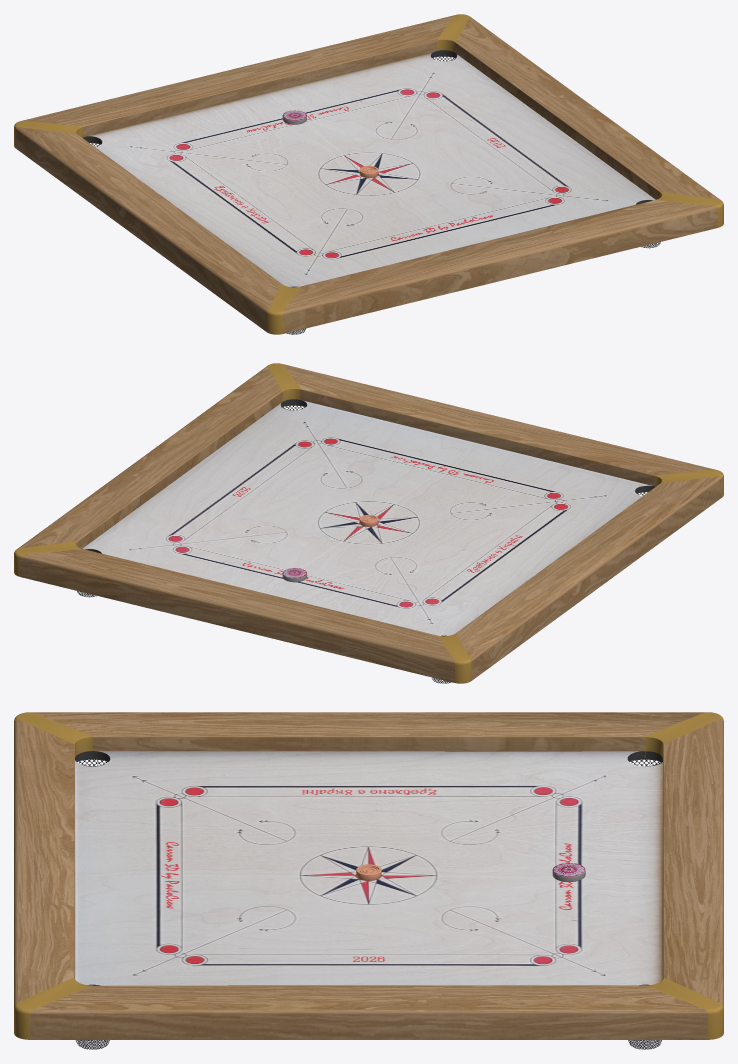
The model's file is carrom-draco1.glb.
The picture shows the model from 3 angles, top to bottom: view 1: azimuth 30°, elevation 25°; view 2: azimuth 150°, elevation 25°; view 3: azimuth 270°, elevation 25°; orthographic projection. The views are drawn at different scales.
Parts seen in each view (by area): view 1: mesh_board_surface, mesh_board_frame; view 2: mesh_board_surface, mesh_board_frame; view 3: mesh_board_surface, mesh_board_frame, mesh_pockets, mesh_striker.
Part boxes in pixels (box(x1,y1,x2,y2)): mesh_board_surface: box(84, 51, 655, 287); mesh_board_frame: box(14, 14, 723, 334); mesh_board_surface: box(82, 400, 654, 636); mesh_board_frame: box(14, 363, 723, 683); mesh_board_surface: box(75, 751, 662, 985); mesh_board_frame: box(14, 712, 723, 1039); mesh_pockets: box(75, 758, 661, 1049); mesh_striker: box(552, 863, 585, 881).
Bounding box in the file's own units: 0.887 × 0.09 × 0.887.
Materials: 10 (4 with a texture image).
